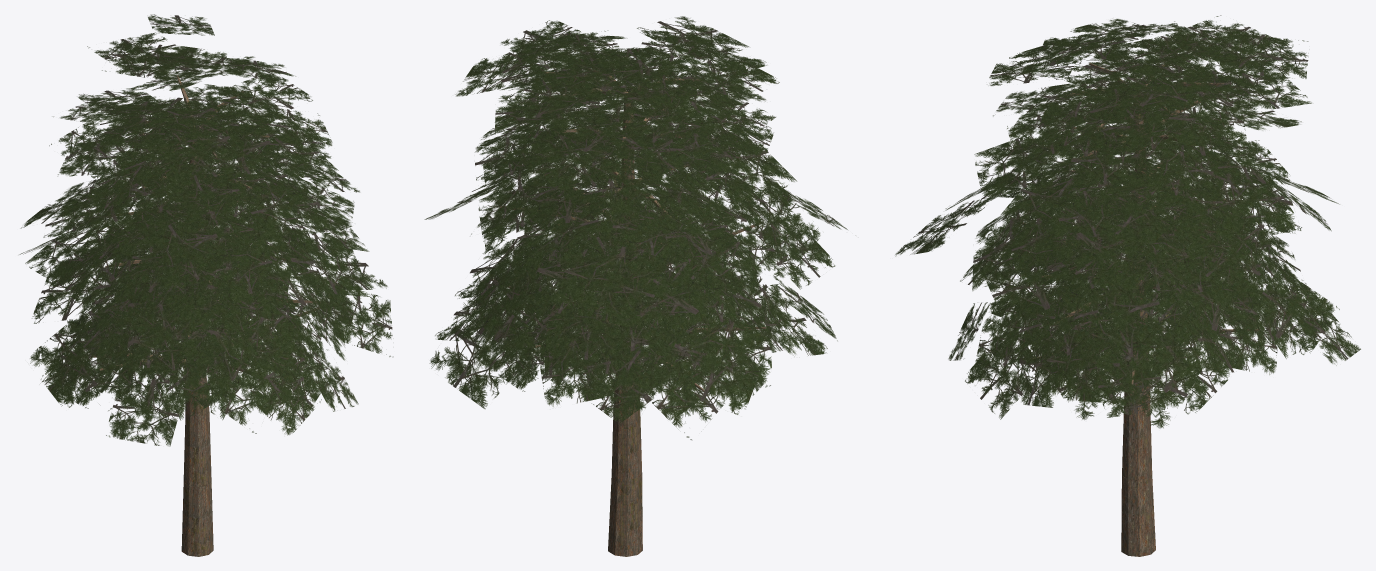
The model's file is pine_b.glb.
3 views of the same model, side by side, from view 1: azimuth 30°, elevation 25°; view 2: azimuth 150°, elevation 25°; view 3: azimuth 270°, elevation 25° (orthographic). The views are drawn at different scales.
Parts seen in each view (by area): view 1: cards, trunk; view 2: cards, trunk; view 3: cards, trunk.
Part boxes in pixels (x1,y1,x2,y2): cards: (19, 14, 393, 446); trunk: (66, 75, 320, 556); cards: (424, 16, 847, 439); trunk: (491, 70, 765, 556); cards: (895, 15, 1360, 428); trunk: (1010, 63, 1258, 556).
Bounding box in the file's own units: 7.5 × 11.13 × 9.09.
Materials: 2 (2 with a texture image).
